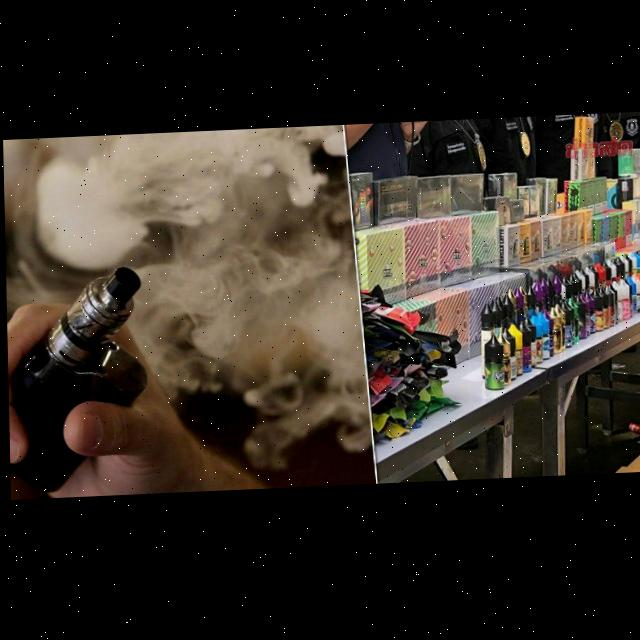vape: (7, 267, 148, 494)
